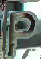Parking: (2, 7, 35, 58)
